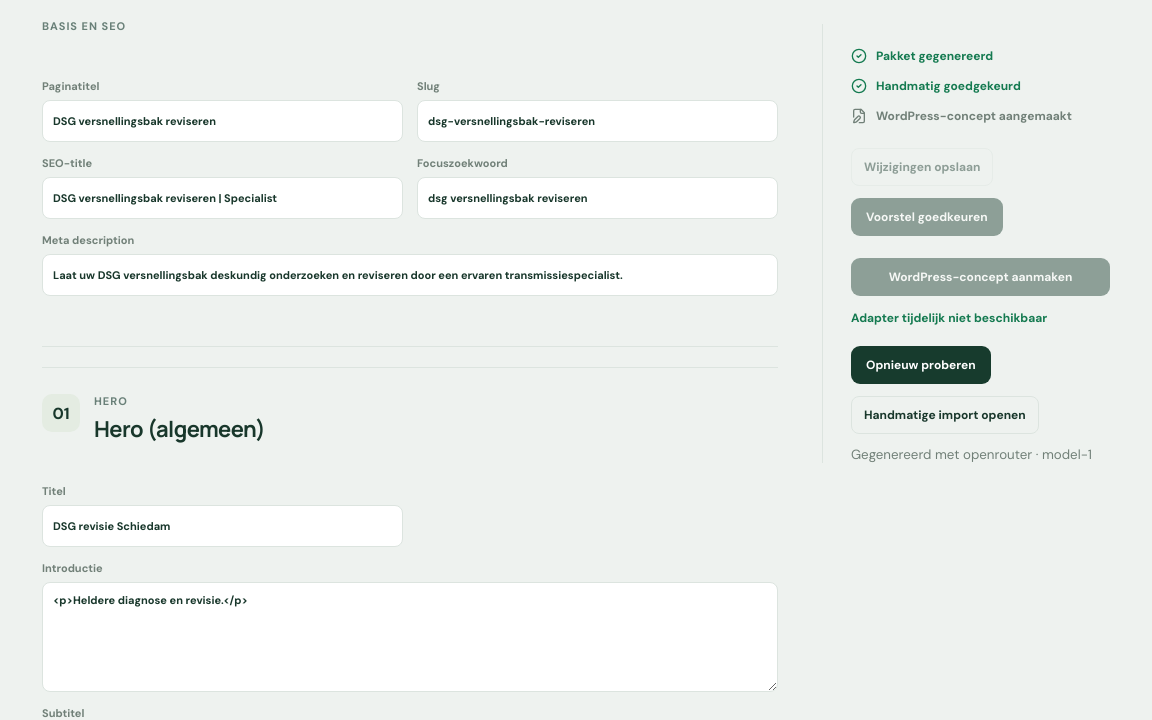
Test: PagePackageReview › retries a failed outbound draft job
(page scrolled)
Step 1. Click the button "Opnieuw proberen" → {"x": 921, "y": 365}, box [851,346,991,384]
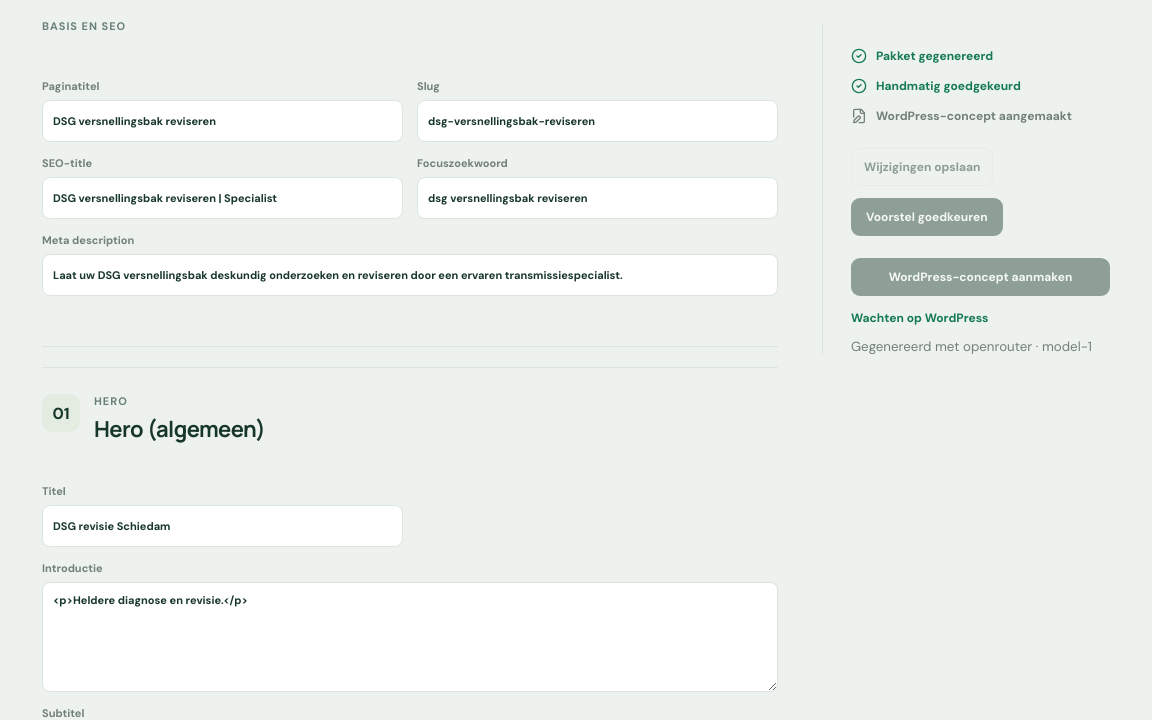
Expected: the text "Wachten op WordPress" is shown, [851,310,988,326]
